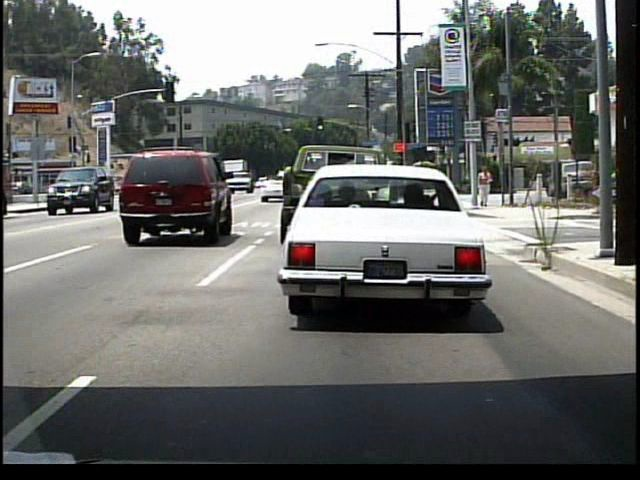person: (478, 167, 494, 210)
